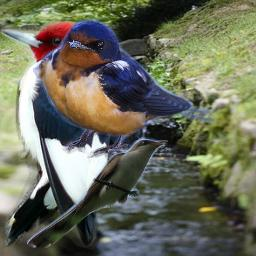Cuckoo: (27, 137, 168, 248)
Swallow: (33, 18, 215, 158)
Woodpecker: (0, 14, 123, 254)
